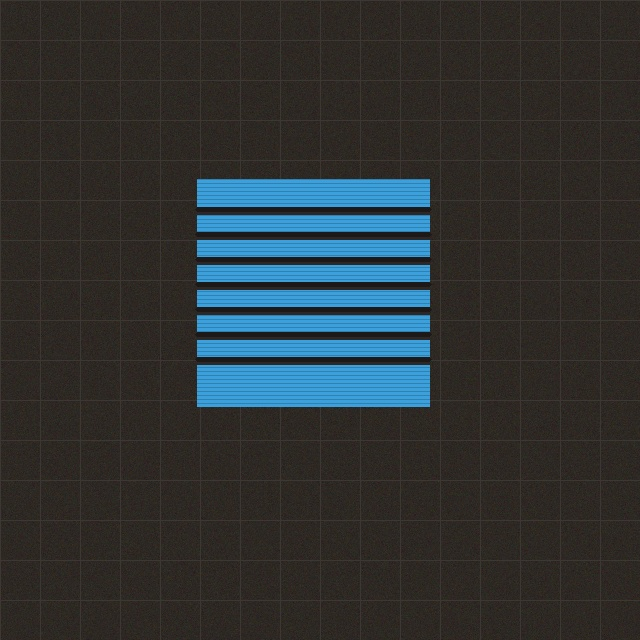under_extrusion: (192, 199, 434, 386)
